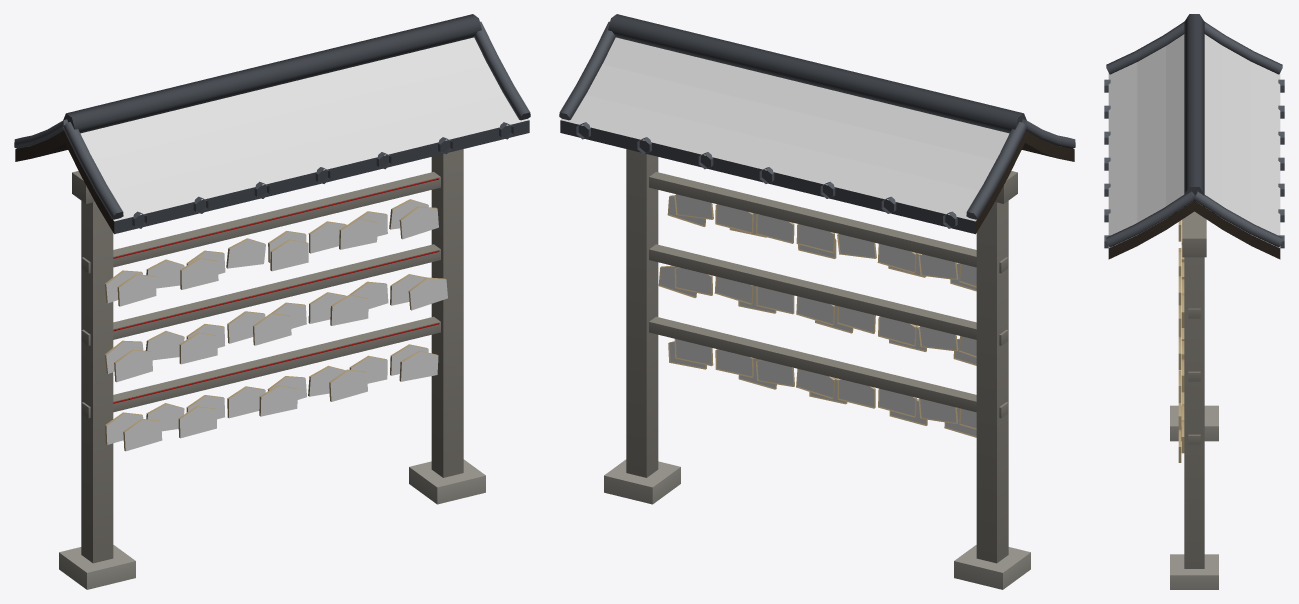
The model's file is EmaRackKM.fbx.
3 views of the same model, side by side, from view 1: azimuth 30°, elevation 25°; view 2: azimuth 150°, elevation 25°; view 3: azimuth 270°, elevation 25° (orthographic). The views are drawn at different scales.
Parts seen in each view (by area): view 1: EmaRackKM; view 2: EmaRackKM; view 3: EmaRackKM.
Part boxes in pixels (x1=…): EmaRackKM: x1=14, y1=14, x2=530, y2=589; EmaRackKM: x1=559, y1=14, x2=1075, y2=589; EmaRackKM: x1=1104, y1=14, x2=1284, y2=589.
Size of the model in its own units: 2.06 by 2.18 by 0.88.
